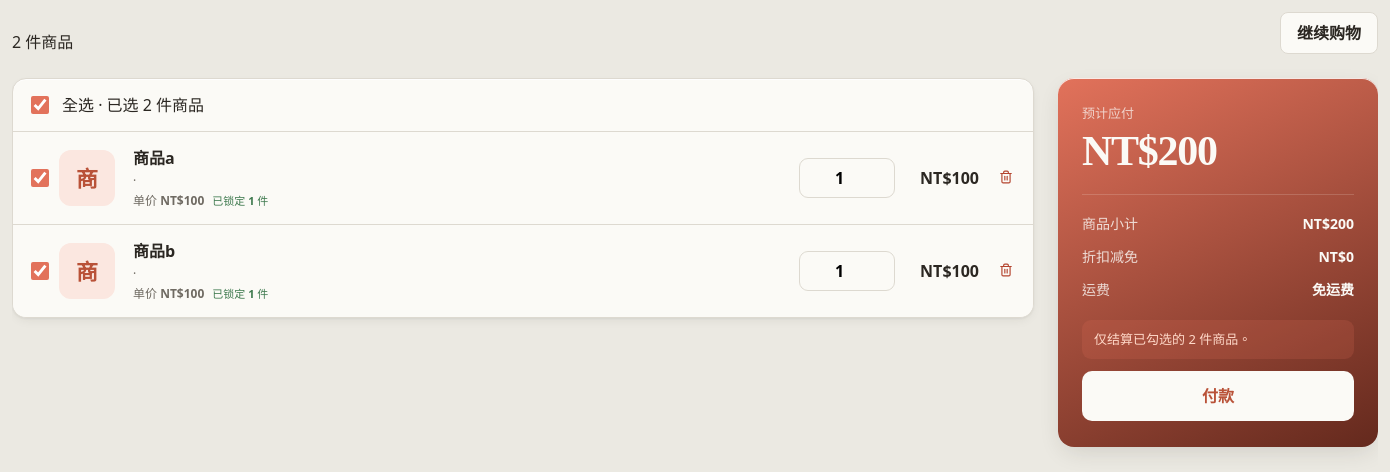
Test case: 购物车勾选交互 › 取消全选显示零应付且不能付款，重新全选恢复报价
Expected: the button "付款" is enabled, [1082, 371, 1354, 421]
Click the checkbox named "全选购物车商品" at (40, 105), box [31, 96, 49, 114]
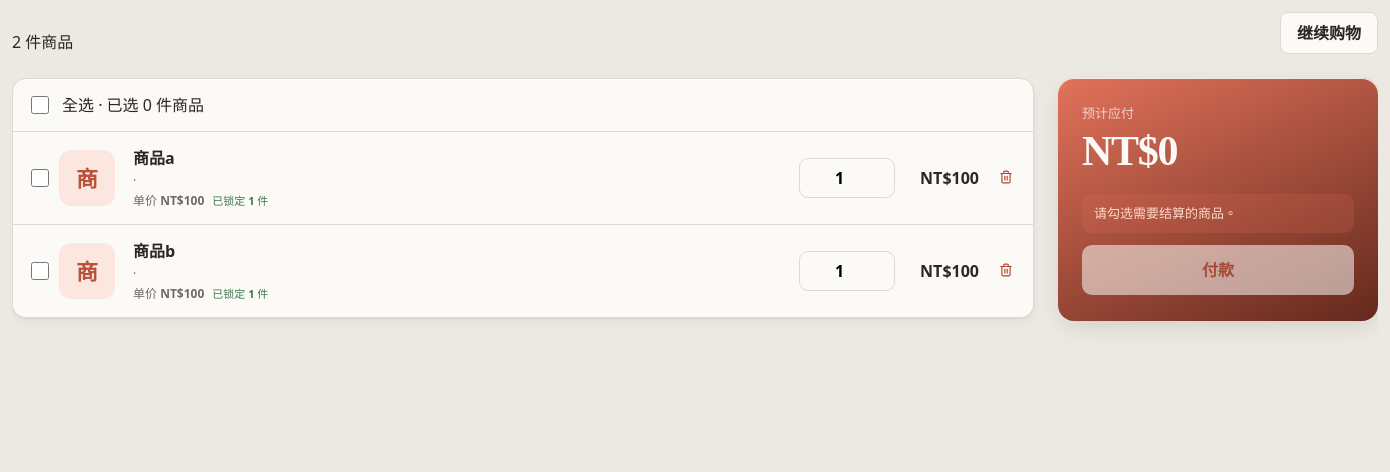
Result: the button "付款" is disabled at [1082, 245, 1354, 295]
Result: the text "请勾选需要结算的商品。" is shown at [1082, 194, 1354, 233]
Result: the text "NT$0" is shown at [1082, 128, 1177, 174]
Click the checkbox named "全选购物车商品" at (40, 105), box [31, 96, 49, 114]
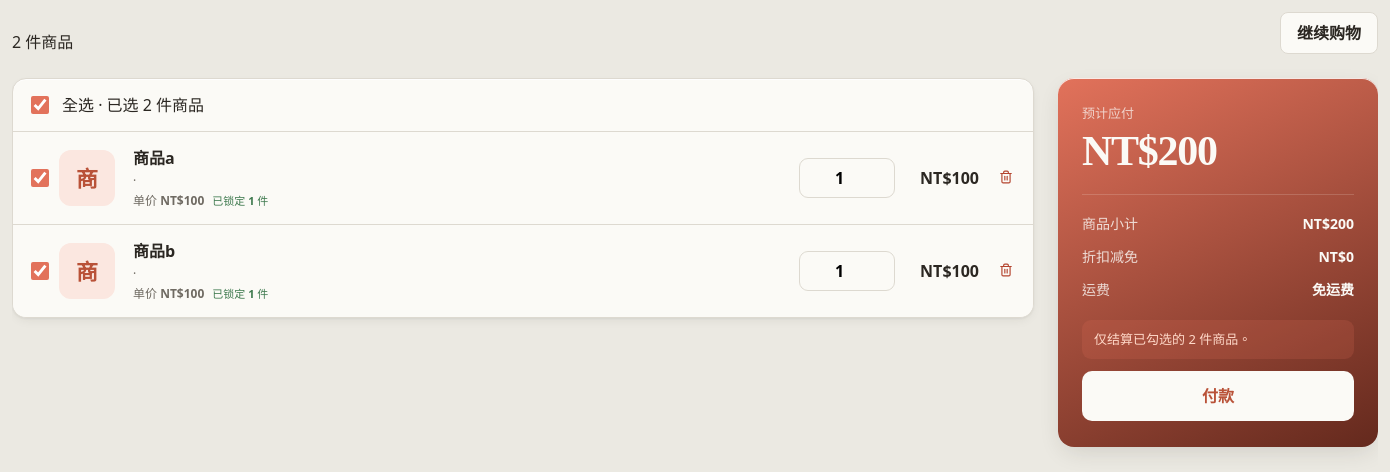
Result: the button "付款" is enabled at [1082, 371, 1354, 421]
